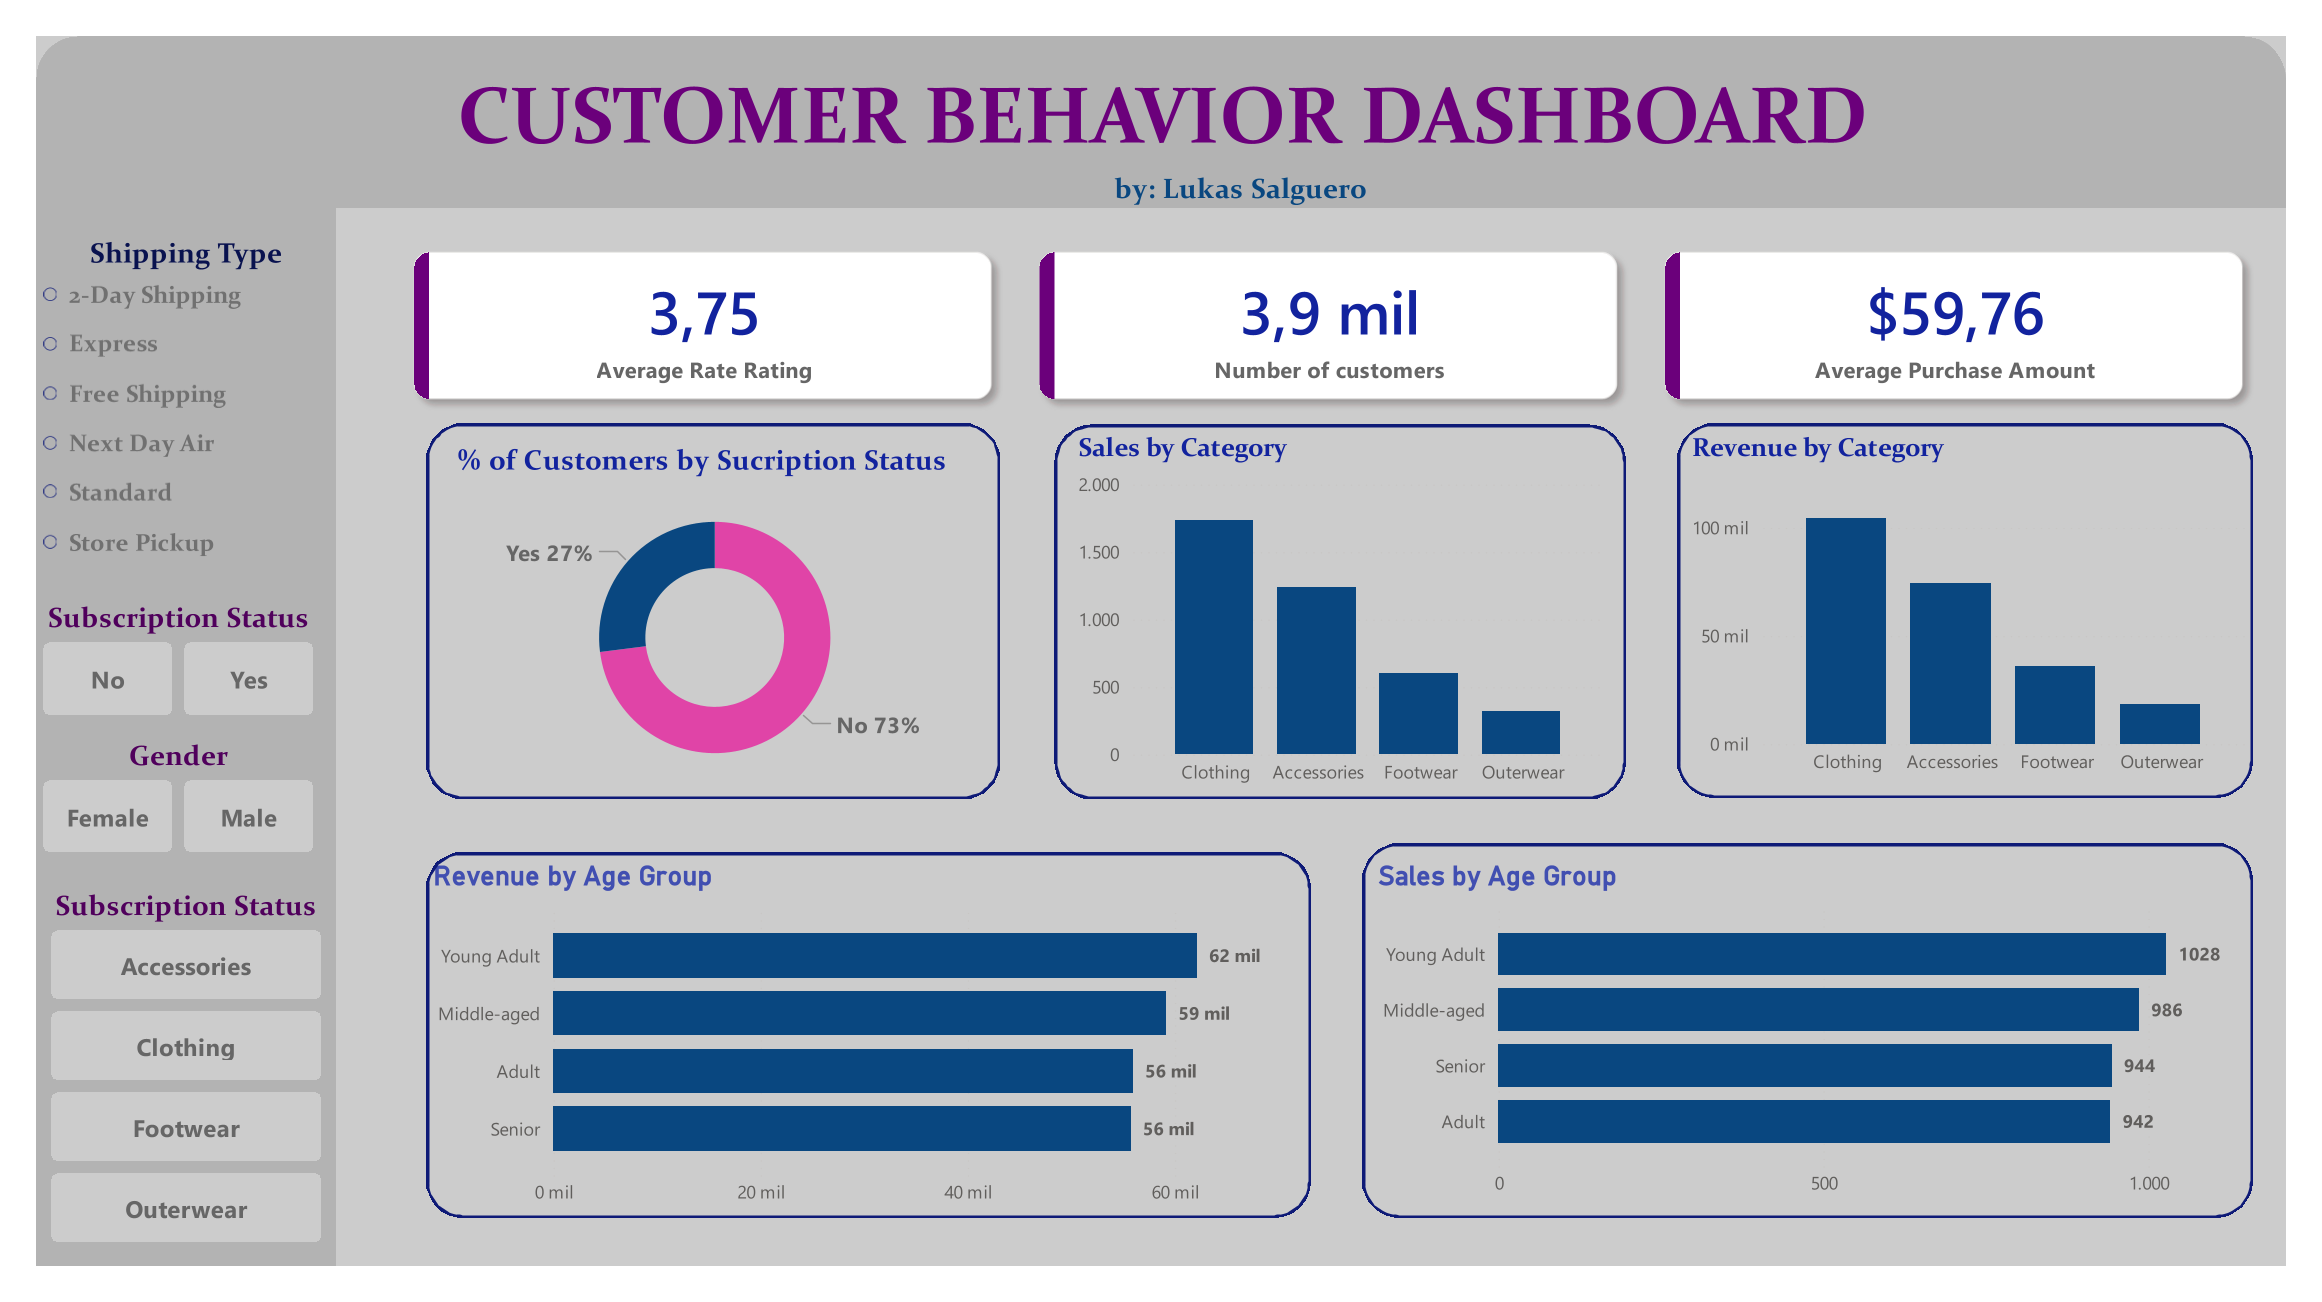

The page's visual inventory and layout, read from the dashboard file:
{"tool":"powerbi","page":{"name":"Página 1","canvas":[1500,820],"ordinal":0},"visuals":[{"type":"cardVisual","fields":{"Data":["public customer.Average Rate Rating","public customer.Number of customers","public customer.Average Purchase Amount"]},"box":[222.5,115,1277.5,156.2],"z":0},{"type":"shape","box":[0,0,1500,115],"z":1000},{"type":"textbox","box":[276.2,15,987.5,85],"z":2000},{"type":"donutChart","title":"% of Customers by Sucription Status","fields":{"Category":["public customer.subscription_status"],"Y":["CountNonNull(public customer.customer_id)"]},"box":[276.2,271.2,352.5,236.2],"z":3000},{"type":"clusteredColumnChart","title":"Revenue by Category","fields":{"Y":["Sum(public customer.purchase_amount)"],"Category":["public customer.category"]},"box":[1098.8,263.8,378.8,237.5],"z":4000},{"type":"clusteredColumnChart","title":"Sales by Category","fields":{"Y":["CountNonNull(public customer.customer_id)"],"Category":["public customer.category"]},"box":[690,263.8,361.2,243.8],"z":5000},{"type":"shape","box":[0,115,200,705],"z":6000},{"type":"advancedSlicerVisual","title":"Subscription Status","fields":{"Values":["public customer.subscription_status"]},"box":[0,376.2,190,82.5],"z":7000},{"type":"advancedSlicerVisual","title":"Gender","fields":{"Values":["public customer.gender"]},"box":[0,467.5,190,81.2],"z":8000},{"type":"advancedSlicerVisual","title":"Subscription Status","fields":{"Values":["public customer.category"]},"box":[5,567.5,190,242.5],"z":9000},{"type":"listSlicer","title":"Shipping Type","fields":{"Values":["public customer.shipping_type"]},"box":[0,132.5,200,253.8],"z":10000},{"type":"clusteredBarChart","title":"Revenue by Age Group","fields":{"Category":["public customer.age_group"],"Y":["Sum(public customer.purchase_amount)"]},"box":[260,548.8,577.5,238.8],"z":11000},{"type":"clusteredBarChart","title":"Sales by Age Group","fields":{"Category":["public customer.age_group"],"Y":["CountNonNull(public customer.customer_id)"]},"box":[892.5,548.8,585,238.8],"z":12000},{"type":"shape","box":[678.8,258.8,381.2,250],"z":13000},{"type":"shape","box":[1093.8,257.5,383.8,250],"z":14000},{"type":"shape","box":[260,543.8,590,243.8],"z":15000},{"type":"shape","box":[883.8,537.5,593.8,250],"z":16000},{"type":"shape","box":[260,257.5,382.5,251.2],"z":17000},{"type":"textbox","box":[713.8,85,213.8,47.5],"z":17001}]}

Visuals, with their boxes in screenshot pixels (x1, y1, x2, y2), scaled from the page's 1500x820 canvas onto the 2322x1302 screenshot:
cardVisual - public customer.Average Rate Rating x public customer.Number of customers: (344, 183, 2321, 431)
shape: (0, 0, 2321, 183)
textbox: (428, 24, 1956, 159)
"% of Customers by Sucription Status" donutChart: (428, 431, 973, 806)
"Revenue by Category" clusteredColumnChart: (1701, 419, 2287, 796)
"Sales by Category" clusteredColumnChart: (1068, 419, 1627, 806)
shape: (0, 183, 310, 1301)
"Subscription Status" advancedSlicerVisual: (0, 597, 294, 728)
"Gender" advancedSlicerVisual: (0, 742, 294, 871)
"Subscription Status" advancedSlicerVisual: (8, 901, 302, 1286)
"Shipping Type" listSlicer: (0, 210, 310, 613)
"Revenue by Age Group" clusteredBarChart: (402, 871, 1296, 1251)
"Sales by Age Group" clusteredBarChart: (1382, 871, 2287, 1251)
shape: (1051, 411, 1641, 808)
shape: (1693, 409, 2287, 806)
shape: (402, 863, 1316, 1251)
shape: (1368, 853, 2287, 1250)
shape: (402, 409, 995, 808)
textbox: (1105, 135, 1436, 210)
